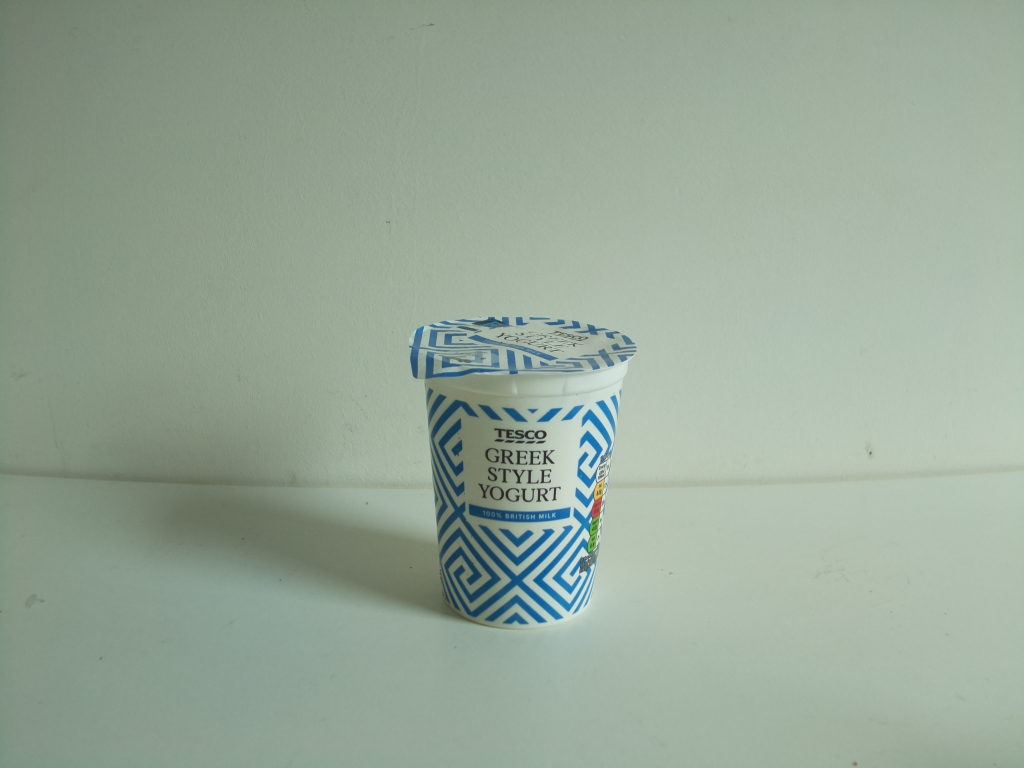yogurt: (405, 314, 642, 631)
